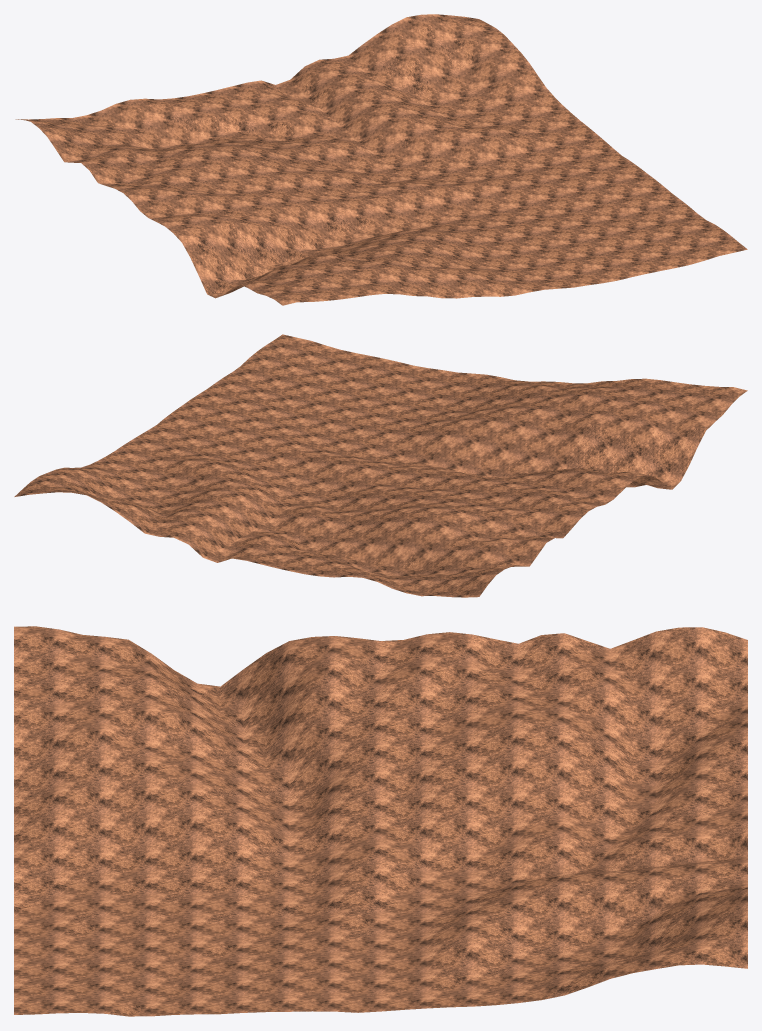
Rendered from terrain_04_01.dae.
3 renders of one model, top to bottom at view 1: azimuth 30°, elevation 25°; view 2: azimuth 150°, elevation 25°; view 3: azimuth 270°, elevation 25°, orthographic. The views are drawn at different scales.
Visible parts, largest first — view 1: terrain_04_01-node; view 2: terrain_04_01-node; view 3: terrain_04_01-node.
Boxes of the visible parts, box(x1,y1,x2,y2) form: terrain_04_01-node: box(15, 14, 747, 305); terrain_04_01-node: box(14, 334, 747, 597); terrain_04_01-node: box(14, 626, 747, 1016).
Size of the model in its own units: 128 by 128 by 15.55.
1 material, 1 textured.
